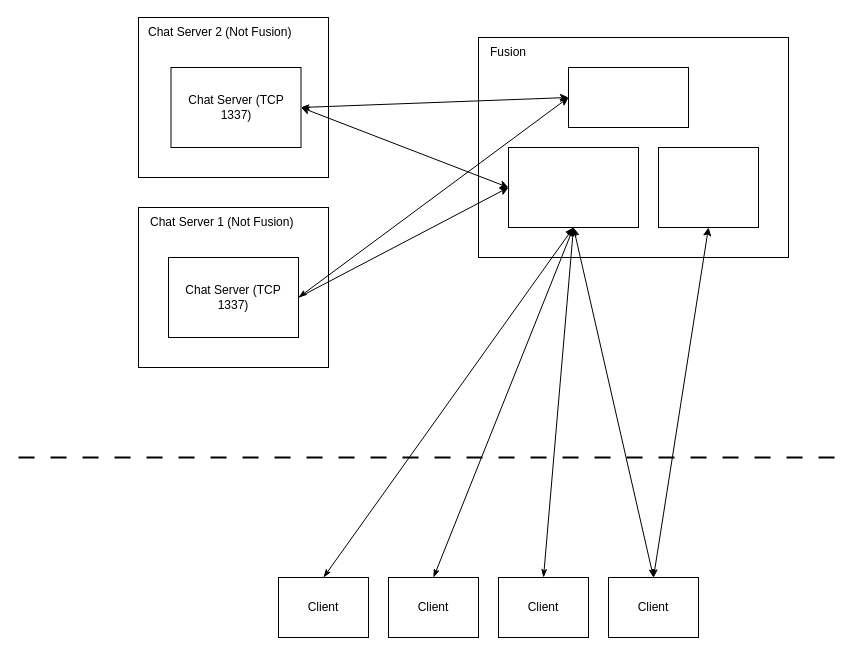
This 867x655 diagram has some shape labels left out. Here are the shapes that lost their labels. From the top down, the centre of each, then its label:
point (628, 97): Fusion Auth Server (UDP 4167)
point (573, 187): Main Fusion Server (TCP 23)
point (708, 187): Fusion Docs Server (HTTP 8080)
